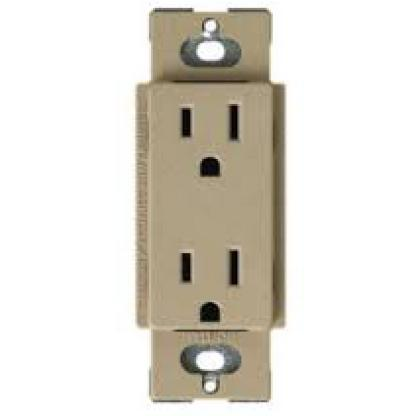OUTLET: (147, 85, 273, 332)
